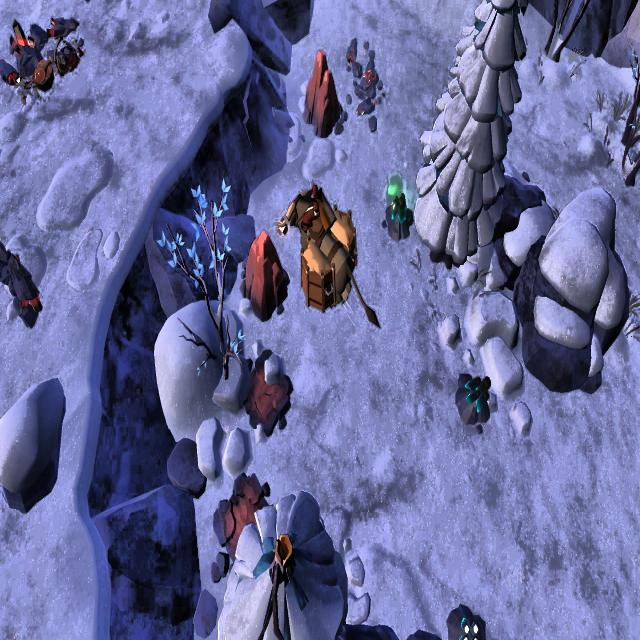ore_t4: (465, 371, 489, 416), (389, 188, 408, 228), (457, 613, 480, 640)
rock_t5: (241, 230, 290, 317), (300, 52, 345, 136)
